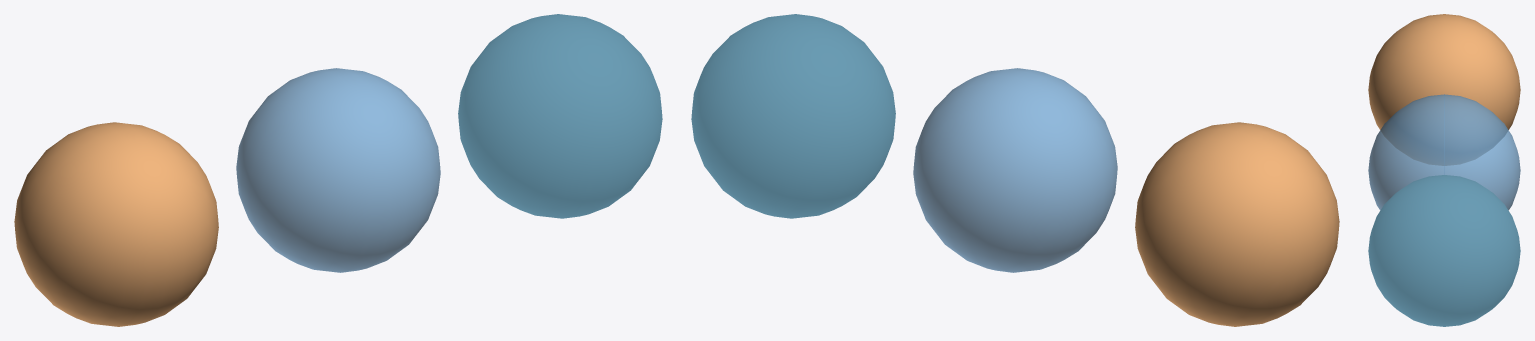
File: specular-spheres.gltf
3 views of the same model, side by side, from view 1: azimuth 30°, elevation 25°; view 2: azimuth 150°, elevation 25°; view 3: azimuth 270°, elevation 25° (orthographic). The views are drawn at different scales.
Bounding box in the file's own units: 7 × 2 × 2.
